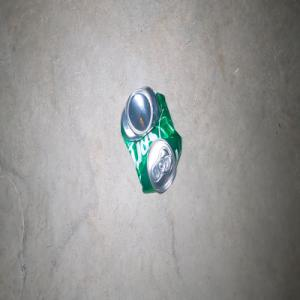SodaCan: (120, 85, 181, 193)
